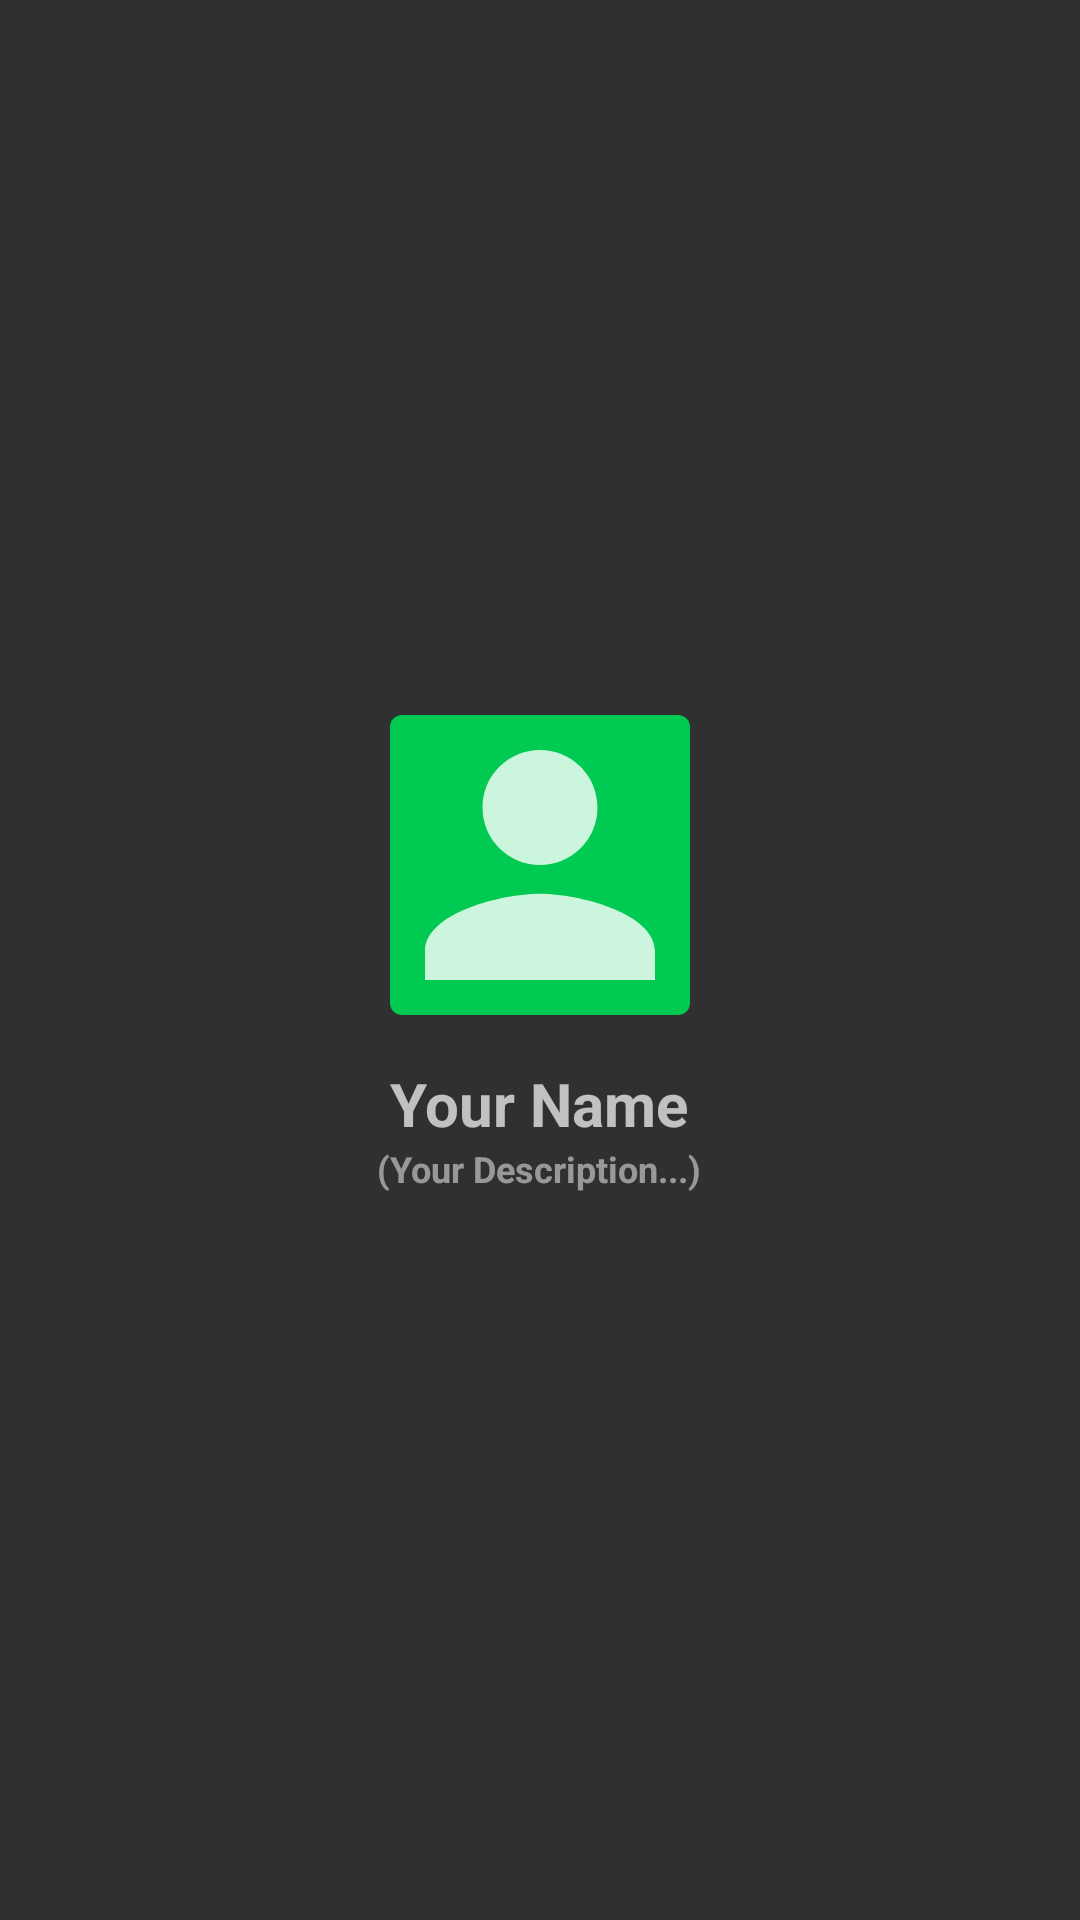

Locate icon controls on the screen. Image size 1080 x 1920, boxes as (x1, y1, x2, y2).
user: (390, 715, 690, 1015)
